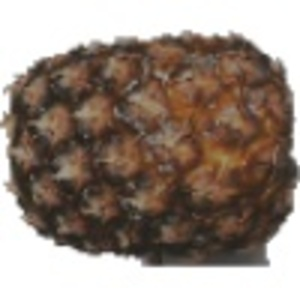abacaxi: (4, 11, 295, 256)
